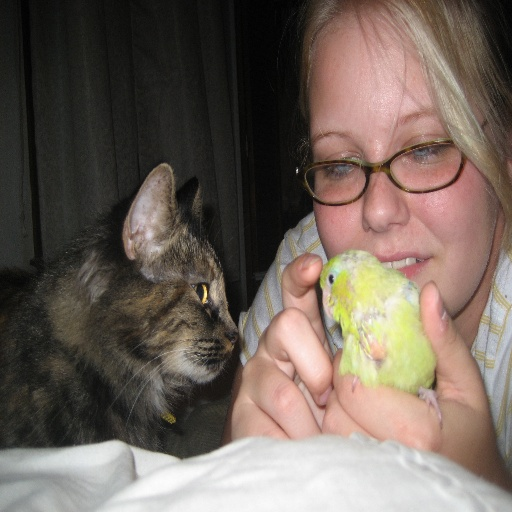hand: (320, 279, 506, 483), (219, 247, 336, 444)
